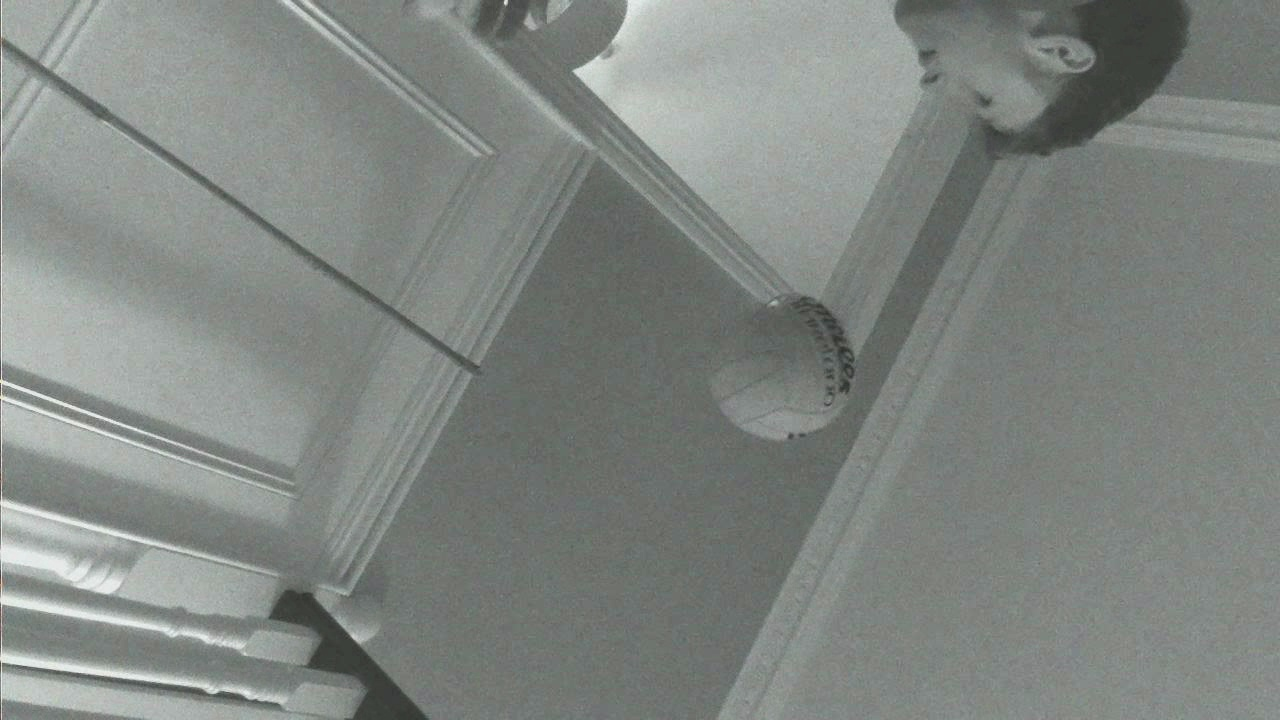Football-Spotter: (709, 293, 854, 440)
